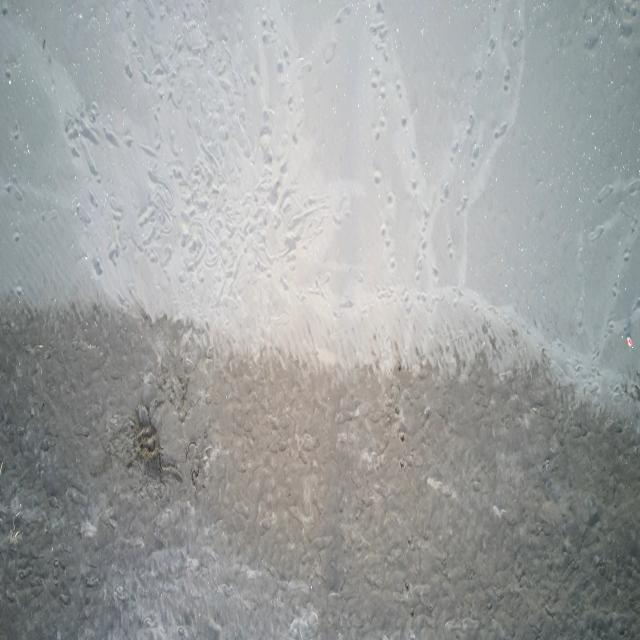tin-and-aluminum-cans: (624, 335, 634, 350)
